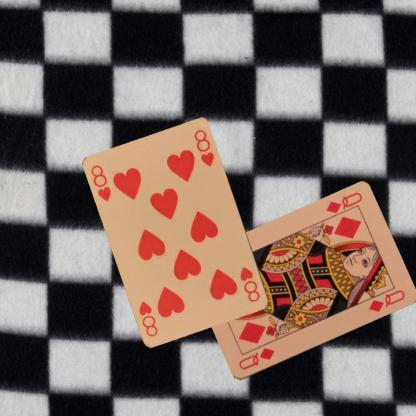8h: (88, 162, 113, 204), (238, 264, 261, 304)
Qd: (323, 190, 363, 222), (235, 345, 276, 371)
